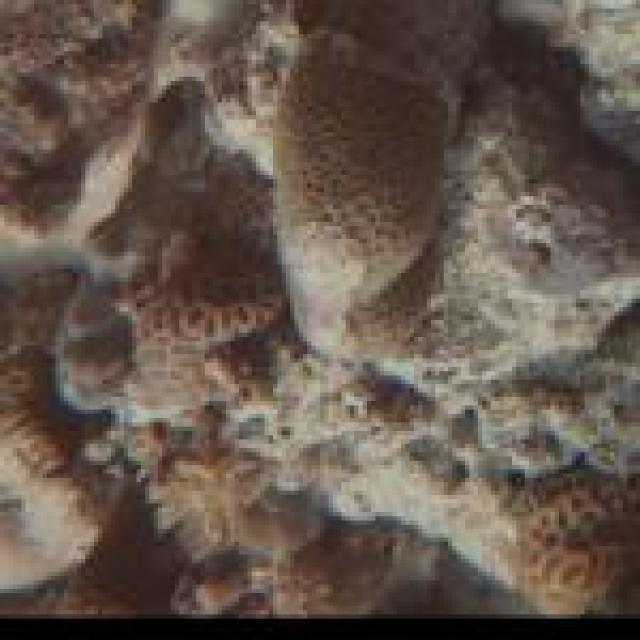Healthy Coral: (298, 51, 453, 339), (110, 234, 311, 407), (506, 459, 633, 621)
